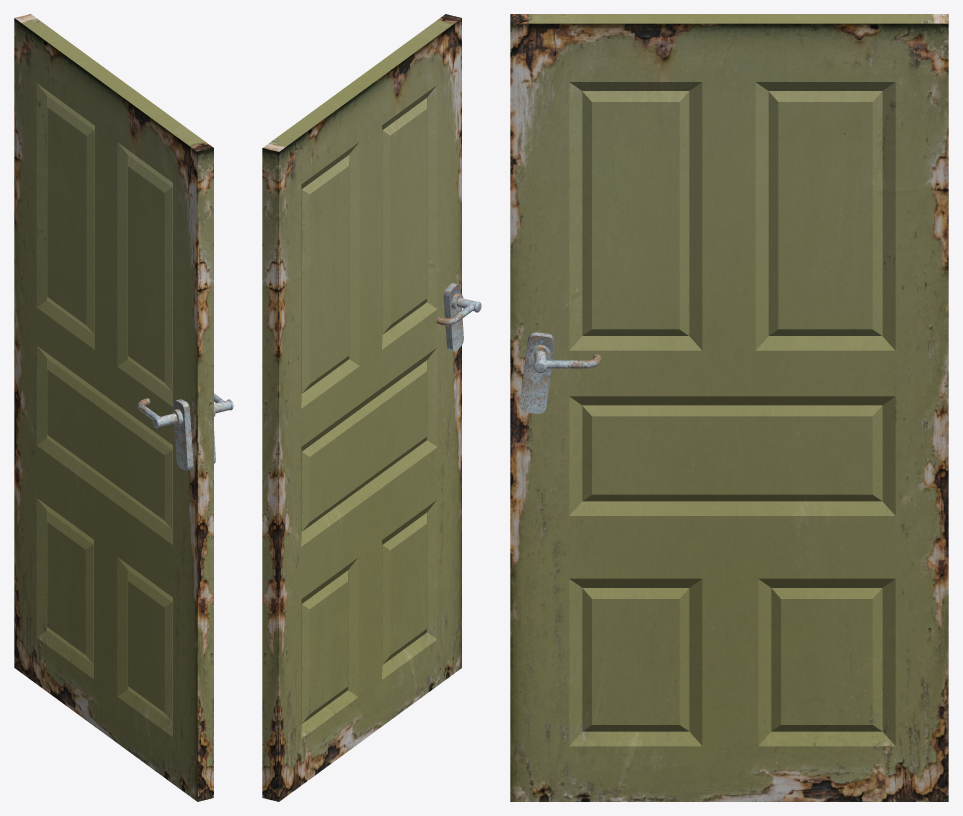
The model's file is JDDoor.fbx.
The picture shows the model from 3 angles, left to right: view 1: azimuth 30°, elevation 25°; view 2: azimuth 150°, elevation 25°; view 3: azimuth 270°, elevation 25°; orthographic projection. The views are drawn at different scales.
Visible parts, largest first — view 1: Plane.001, Cube, Cylinder.001; view 2: Plane.001, Cube, Cylinder.001; view 3: Plane.001, Cube, Cylinder.001.
Part boxes in pixels (x1=…): Plane.001: x1=14, y1=14, x2=213, y2=801; Cube: x1=173, y1=399, x2=215, y2=470; Cylinder.001: x1=137, y1=393, x2=233, y2=428; Plane.001: x1=262, y1=14, x2=461, y2=801; Cube: x1=443, y1=283, x2=463, y2=351; Cylinder.001: x1=436, y1=293, x2=481, y2=325; Plane.001: x1=510, y1=14, x2=948, y2=801; Cube: x1=519, y1=332, x2=554, y2=413; Cylinder.001: x1=530, y1=345, x2=601, y2=373.
Bounding box in the file's own units: 9.94 × 80.97 × 41.35.
